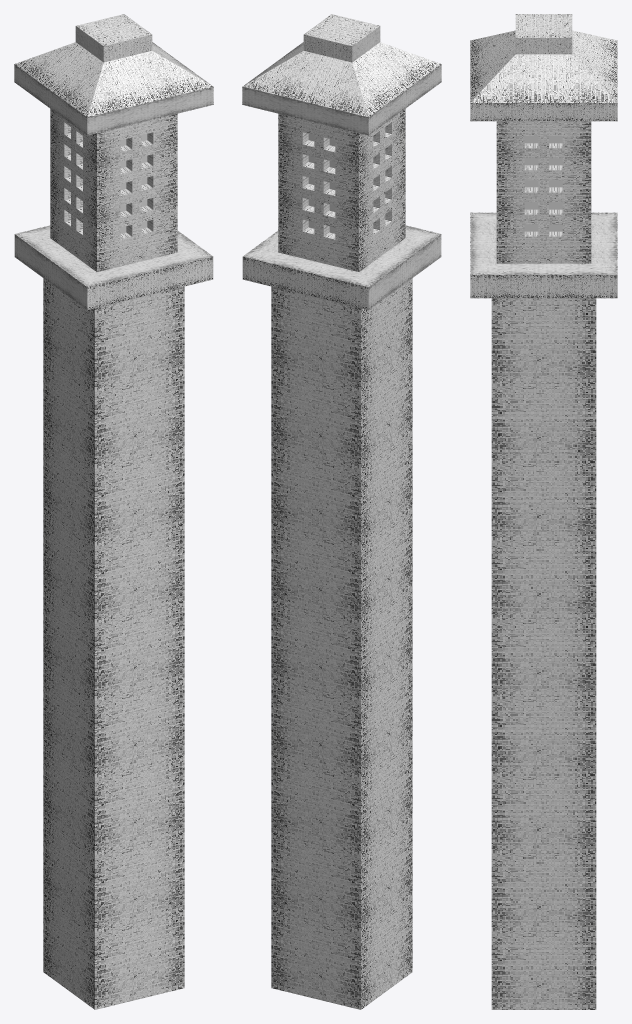
Rendered from lanternNaka.fbx.
The picture shows the model from 3 angles, left to right: view 1: azimuth 30°, elevation 25°; view 2: azimuth 150°, elevation 25°; view 3: azimuth 270°, elevation 25°; orthographic projection.
Visible parts, largest first — view 1: LanternNaka, LanternNakaInside; view 2: LanternNaka, LanternNakaInside; view 3: LanternNaka, LanternNakaInside.
Boxes of the visible parts, left/top/right/bottom form: LanternNaka: left=14, top=14, right=213, bottom=1009; LanternNakaInside: left=120, top=134, right=147, bottom=233; LanternNaka: left=242, top=14, right=441, bottom=1009; LanternNakaInside: left=308, top=134, right=335, bottom=233; LanternNaka: left=470, top=14, right=617, bottom=1009; LanternNakaInside: left=524, top=136, right=562, bottom=231.
Bounding box in the file's own units: 73.61 × 529 × 73.61.
